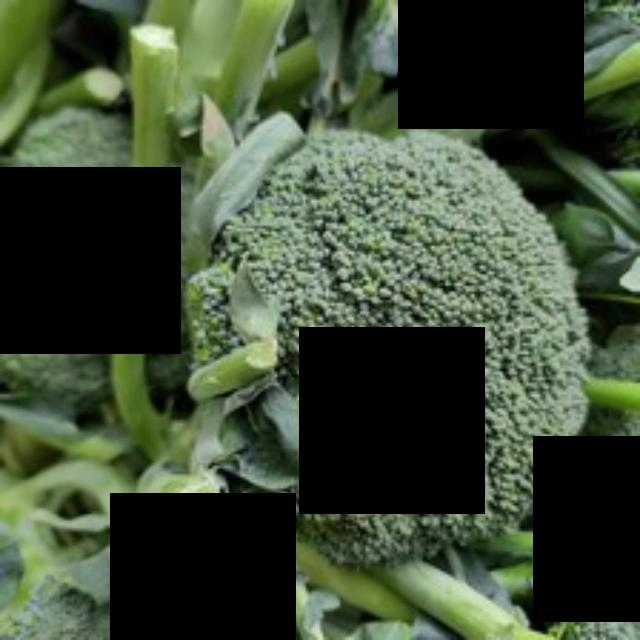broccoli: (170, 124, 590, 566)
